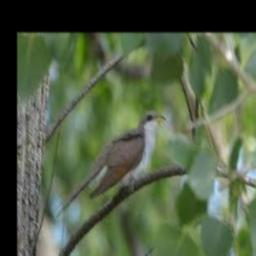Cuckoo: (53, 109, 167, 220)
